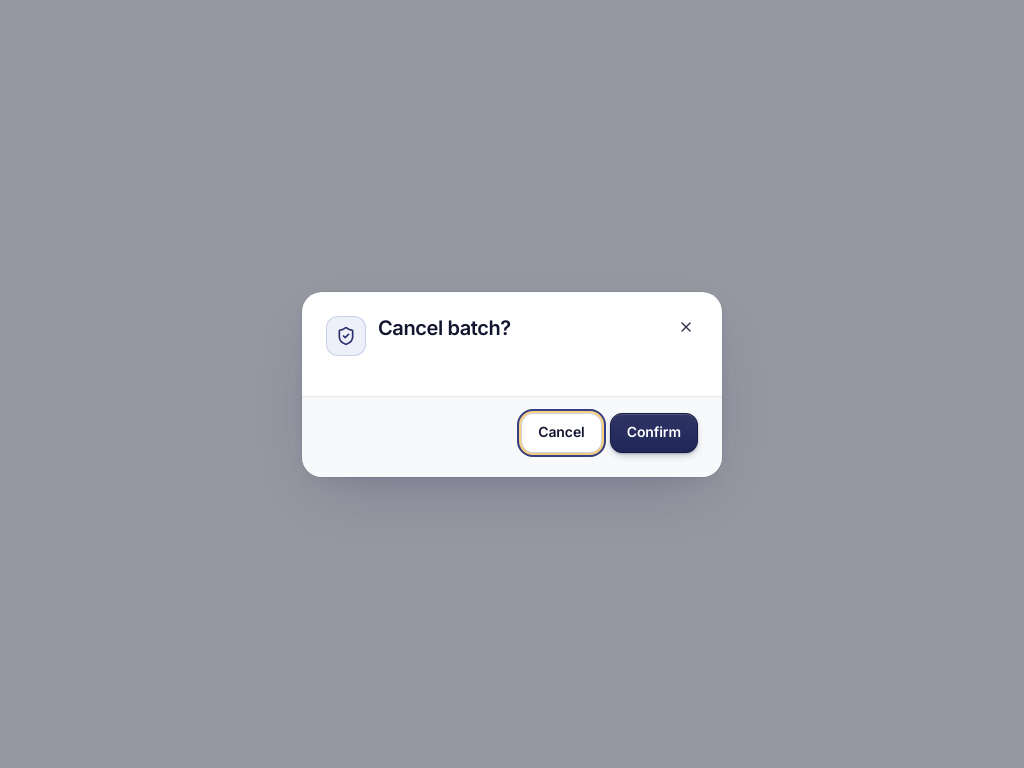
ConfirmDialog › shows the error and stays open when the action fails
Click the button "Confirm" at point(654, 432), box [610, 412, 698, 452]
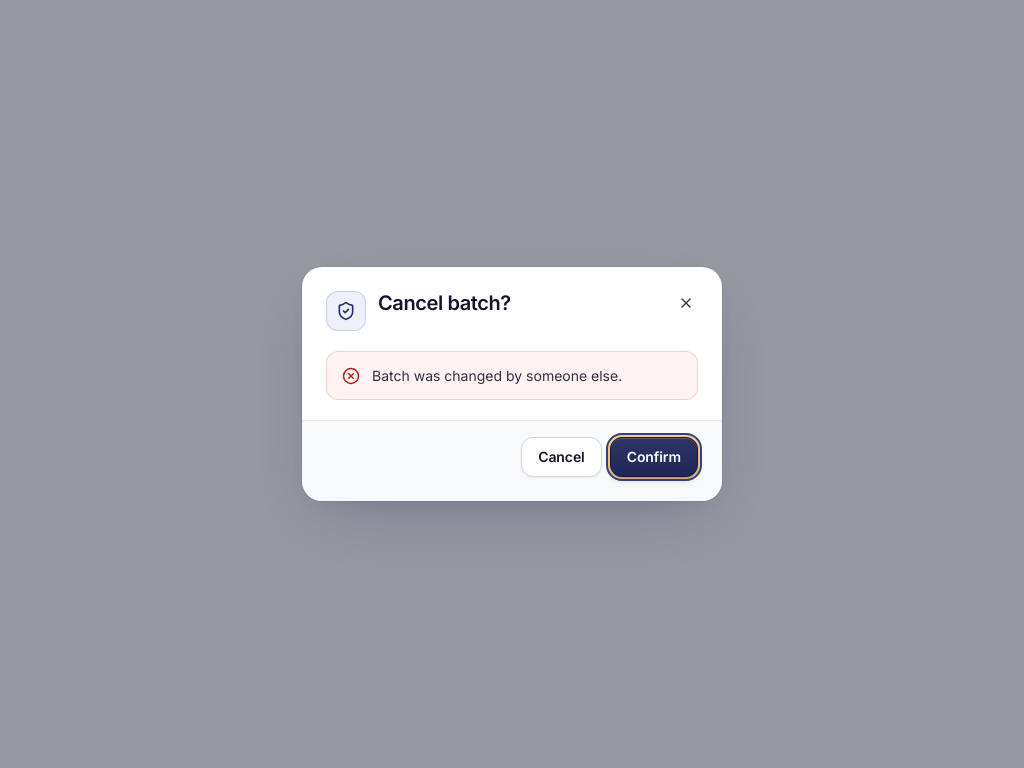
Expected: the message reads "Batch was changed by someone else.", [372, 367, 622, 384]
